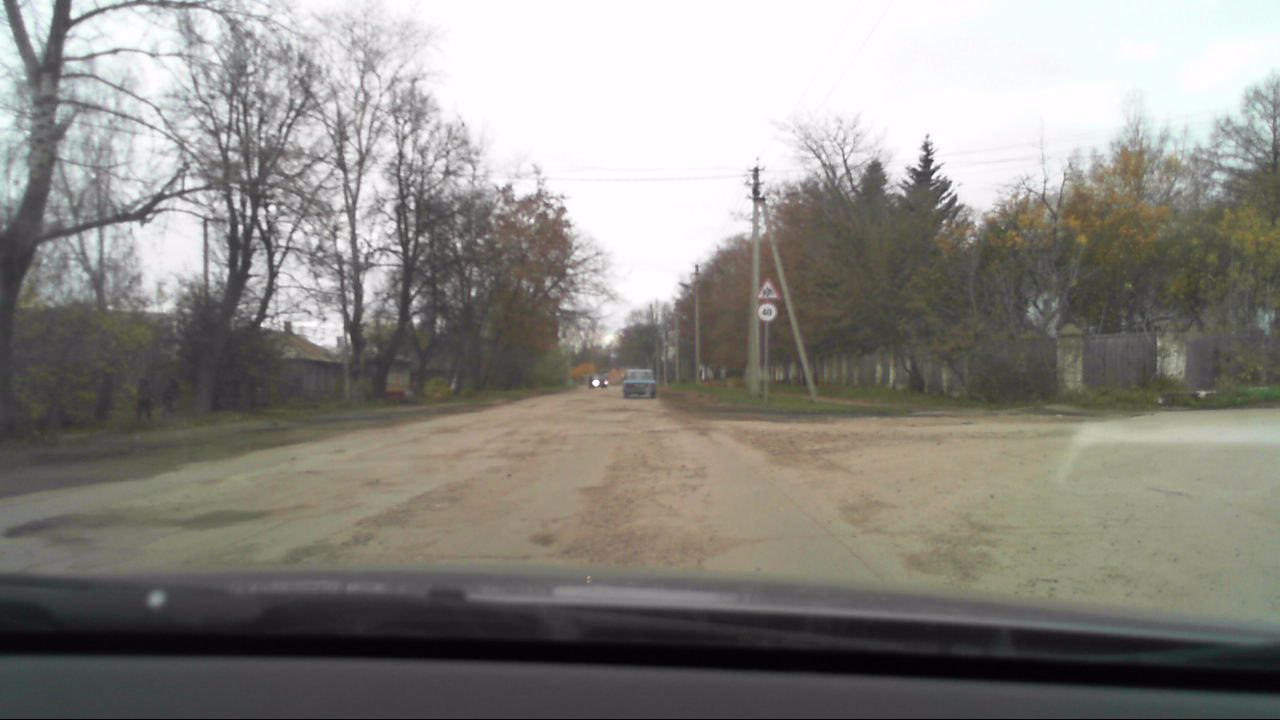speed_warning_40: (757, 303, 778, 321)
